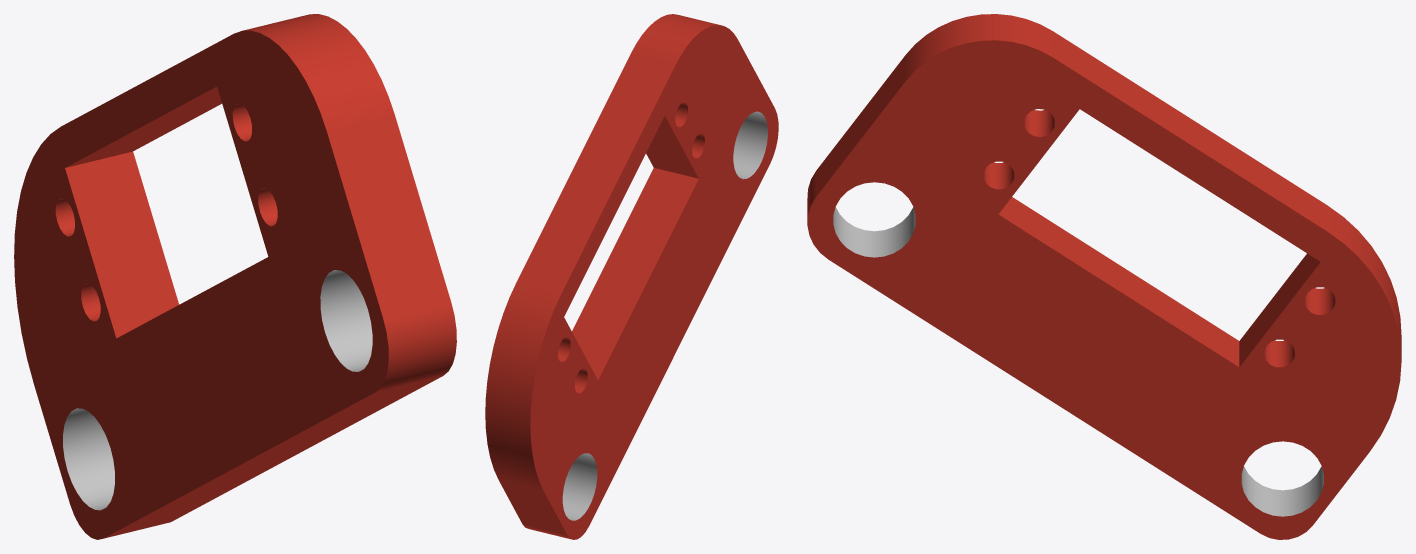
Rendered from engsel.obj.
The picture shows the model from 3 angles, left to right: view 1: azimuth 30°, elevation 25°; view 2: azimuth 150°, elevation 25°; view 3: azimuth 270°, elevation 25°; orthographic projection. The views are drawn at different scales.
Visible parts, largest first — view 1: Solid1; view 2: Solid1; view 3: Solid1.
Part boxes in pixels (x1=…): Solid1: x1=14, y1=14, x2=456, y2=539; Solid1: x1=485, y1=14, x2=778, y2=539; Solid1: x1=807, y1=14, x2=1401, y2=539.
Bounding box in the file's own units: 0.009 × 0.0796 × 0.0858.
